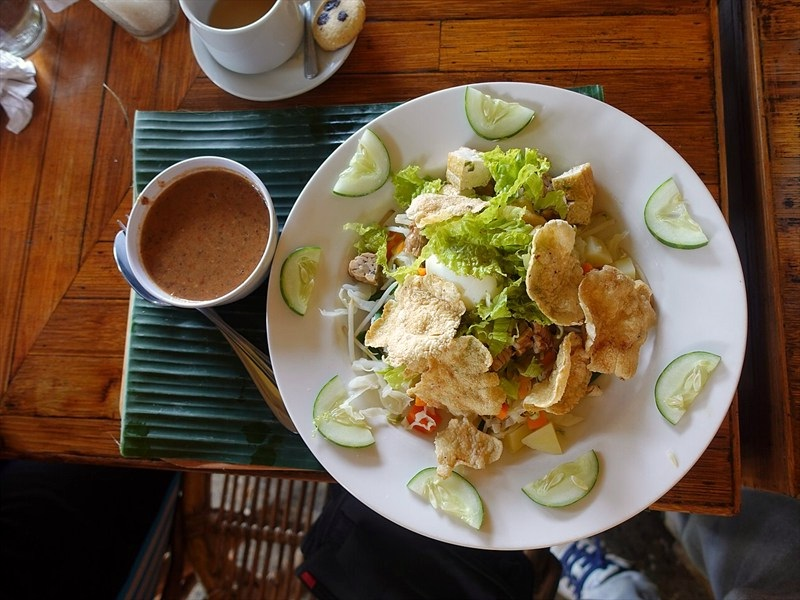Gado-Gado: (112, 69, 743, 551)
